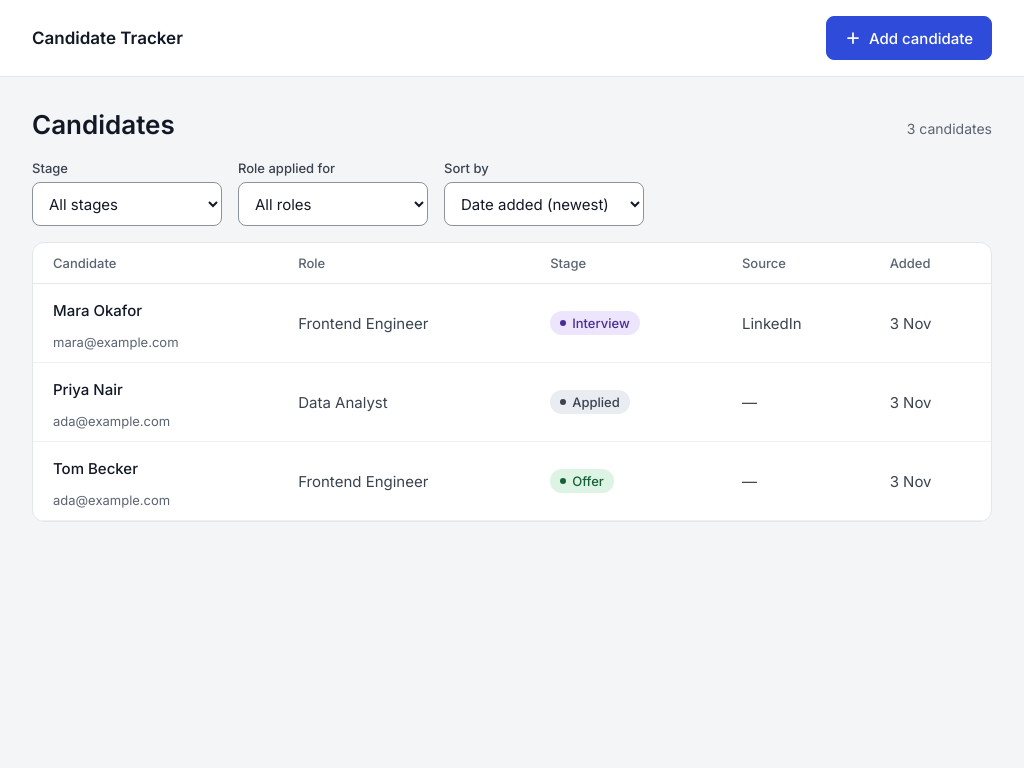
Scenario: candidate list › never lets a slow, older response replace a newer one
expect the link "Mara Okafor" is shown: met, box [53, 300, 142, 320]
// The user picks Screening (slow), then Offer (fast) before Screening answers.
Select "Screening" in the dropdown labelled "Stage": coordinates (127, 204) [32, 182, 222, 226]
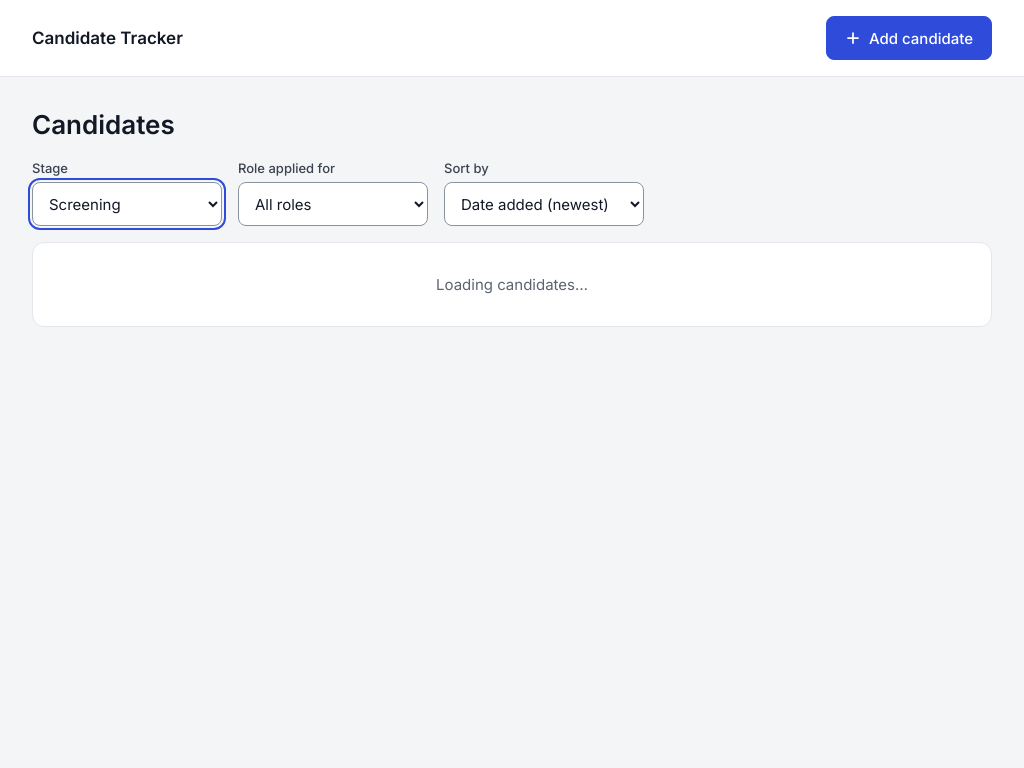
Select "Offer" in the dropdown labelled "Stage": coordinates (127, 204) [32, 182, 222, 226]
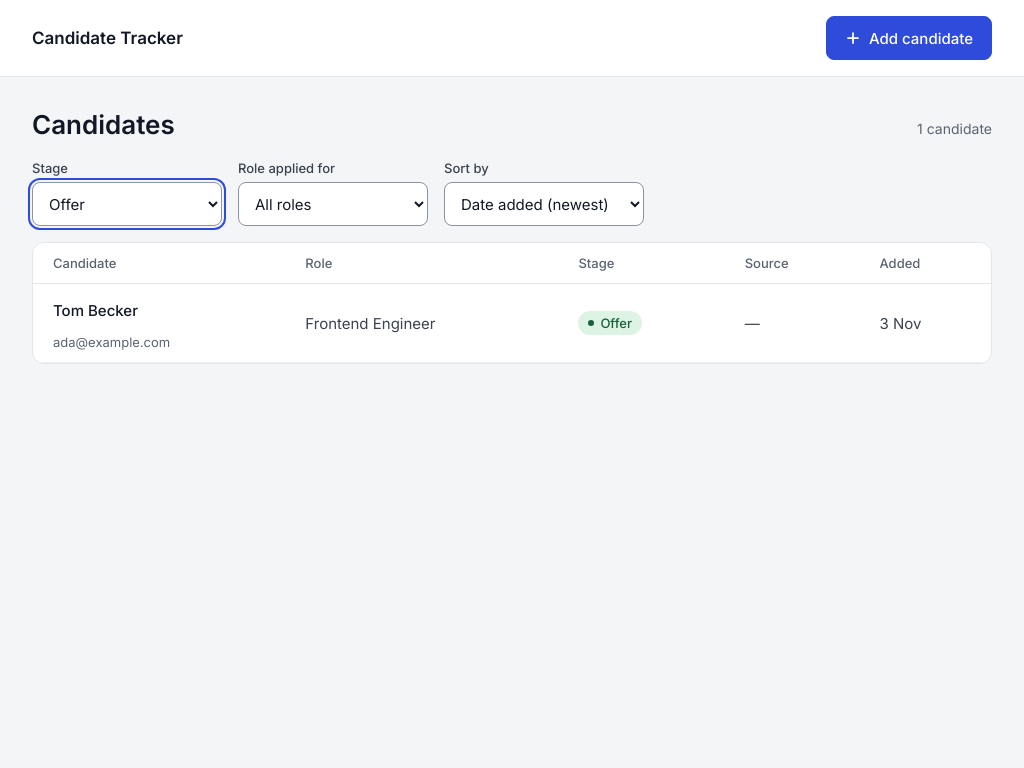
expect the link "Tom Becker" is shown: met, box [53, 300, 138, 320]
